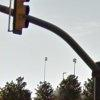Traffic light: (4, 0, 48, 42)
